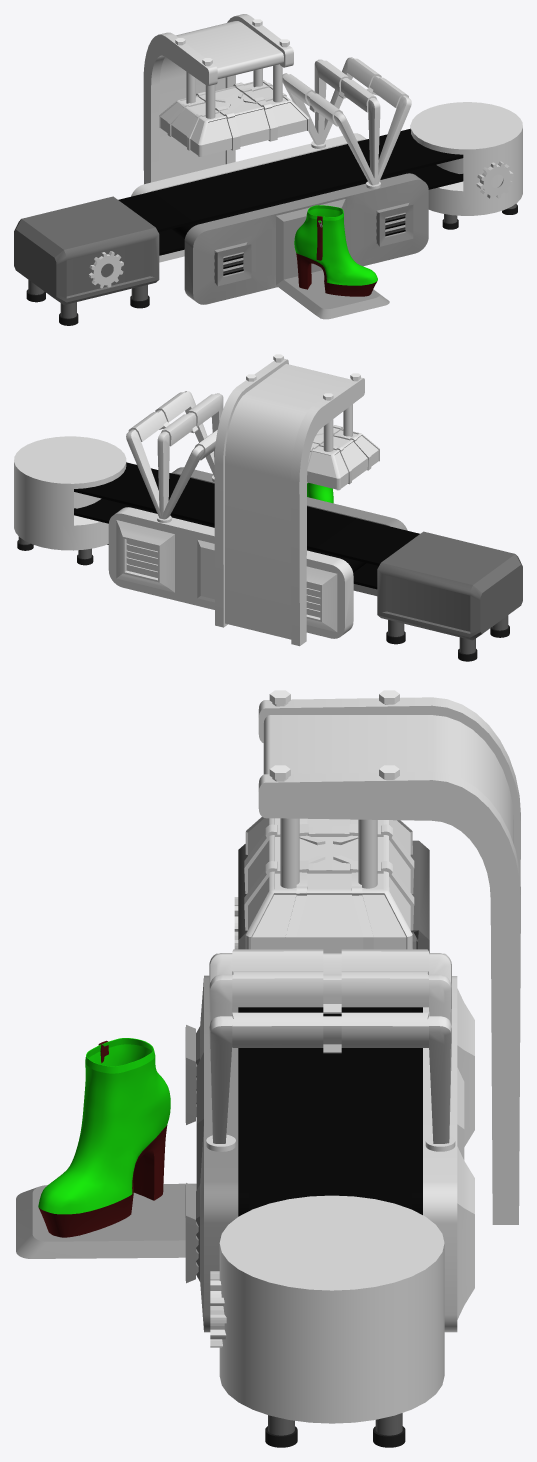
Rendered from ayakkabmak8.fbx.
The picture shows the model from 3 angles, top to bottom: view 1: azimuth 30°, elevation 25°; view 2: azimuth 150°, elevation 25°; view 3: azimuth 270°, elevation 25°; orthographic projection. The views are drawn at different scales.
Parts seen in each view (by area): view 1: Cube.088, Circle.221, Plane.016, Circle.227, Cylinder.250, Cylinder.245, s4studio_mesh_1_geom.028, Cube.092, Cube.093, Cube.090, Cube.091, Gear.080 (+6 smaller); view 2: Plane.016, Cube.090, Circle.227, Cylinder.250, Circle.221, Cylinder.245, Cube.093, Cube.092, Cube.088, Cube.091, Circle.222, Cylinder.248 (+2 smaller); view 3: Cylinder.250, Plane.016, Circle.221, Cylinder.245, Cube.088, s4studio_mesh_1_geom.028, Cube.093, Cube.090, Cube.092, Cube.091, Circle.222, Circle.227 (+5 smaller).
Part boxes in pixels (x1,y1,x2,y2): Cube.088: (184,173,428,319); Circle.221: (118,128,463,255); Plane.016: (143,14,293,184); Circle.227: (14,196,159,304); Cylinder.250: (410,102,522,215); Cylinder.245: (159,80,309,156); s4studio_mesh_1_geom.028: (294,205,377,296); Cube.092: (314,59,380,184); Cube.093: (320,57,411,183); Cube.090: (131,133,366,262); Cube.091: (282,73,374,185); Gear.080: (476,161,513,198); Plane.016: (214,358,364,646); Cube.090: (108,507,353,638); Circle.227: (377,531,522,640); Cylinder.250: (14,436,126,550); Circle.221: (74,462,419,589); Cylinder.245: (307,425,379,490); Cube.093: (126,391,214,518); Cube.092: (157,393,223,518); Cube.088: (171,467,407,595); Cube.091: (162,429,217,519); Circle.222: (127,505,366,572); Cylinder.248: (458,637,477,661); Cylinder.250: (219,1195,444,1423); Plane.016: (258,697,520,1224); Circle.221: (249,1007,411,1210); Cylinder.245: (244,817,414,952); Cube.088: (16,975,238,1332); s4studio_mesh_1_geom.028: (38,1038,170,1237); Cube.093: (209,1012,451,1143); Cube.090: (423,976,474,1332); Cube.092: (209,971,451,1025); Cube.091: (209,949,451,985); Circle.222: (238,1007,422,1216); Circle.227: (238,840,429,952).
Size of the model in its own units: 1364 by 614 by 622.
